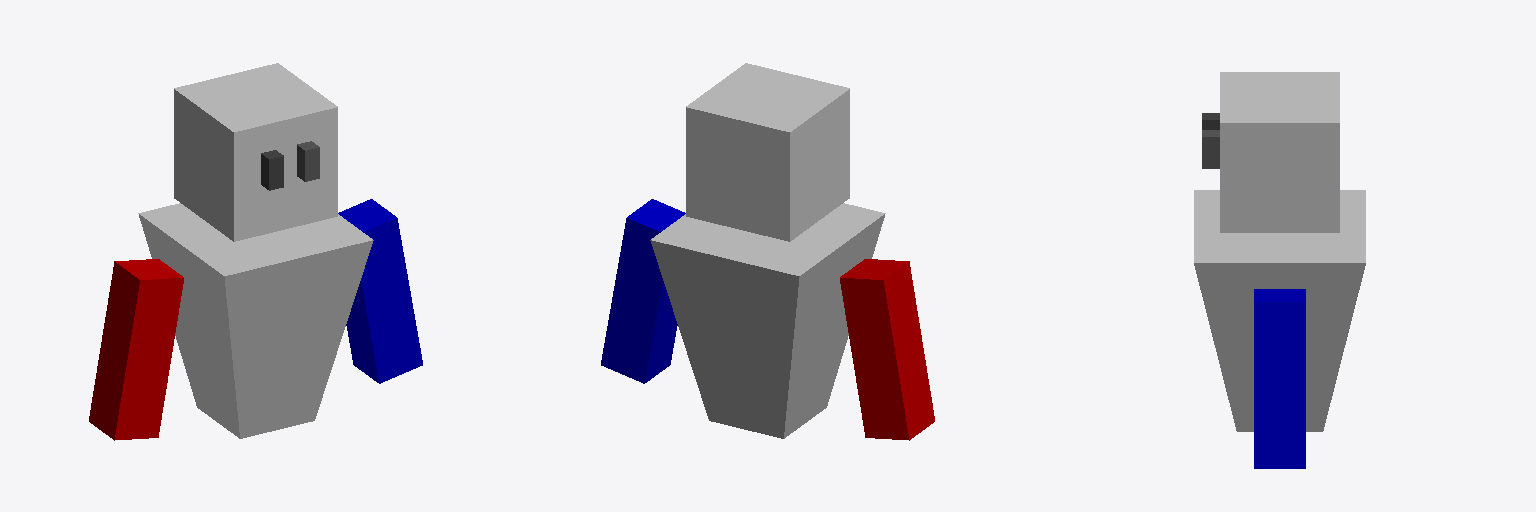
The model's file is player.obj.
3 renders of one model, left to right at view 1: azimuth 30°, elevation 25°; view 2: azimuth 150°, elevation 25°; view 3: azimuth 270°, elevation 25°, orthographic.
Parts seen in each view (by area): view 1: body, head, rArm, lArm, lEye, rEye; view 2: body, head, rArm, lArm; view 3: body, head, lArm, lEye.
Part boxes in pixels (x1,y1,x2,y2): body: (138, 203, 373, 438); head: (174, 63, 337, 241); rArm: (89, 259, 183, 440); lArm: (338, 199, 422, 383); lEye: (297, 141, 319, 181); rEye: (261, 150, 283, 190); body: (650, 203, 885, 438); head: (686, 63, 849, 241); rArm: (840, 259, 934, 440); lArm: (601, 199, 685, 383); body: (1194, 190, 1365, 431); head: (1220, 72, 1339, 232); lArm: (1254, 289, 1305, 468); lEye: (1202, 130, 1219, 168).
Bounding box in the file's own units: 4.14 × 4.05 × 2.